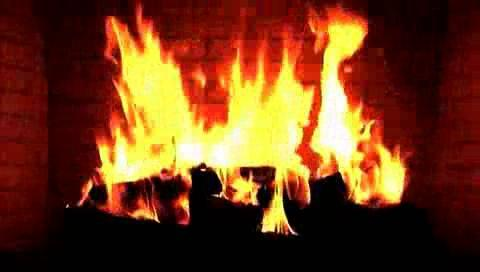fire: (91, 16, 393, 212)
